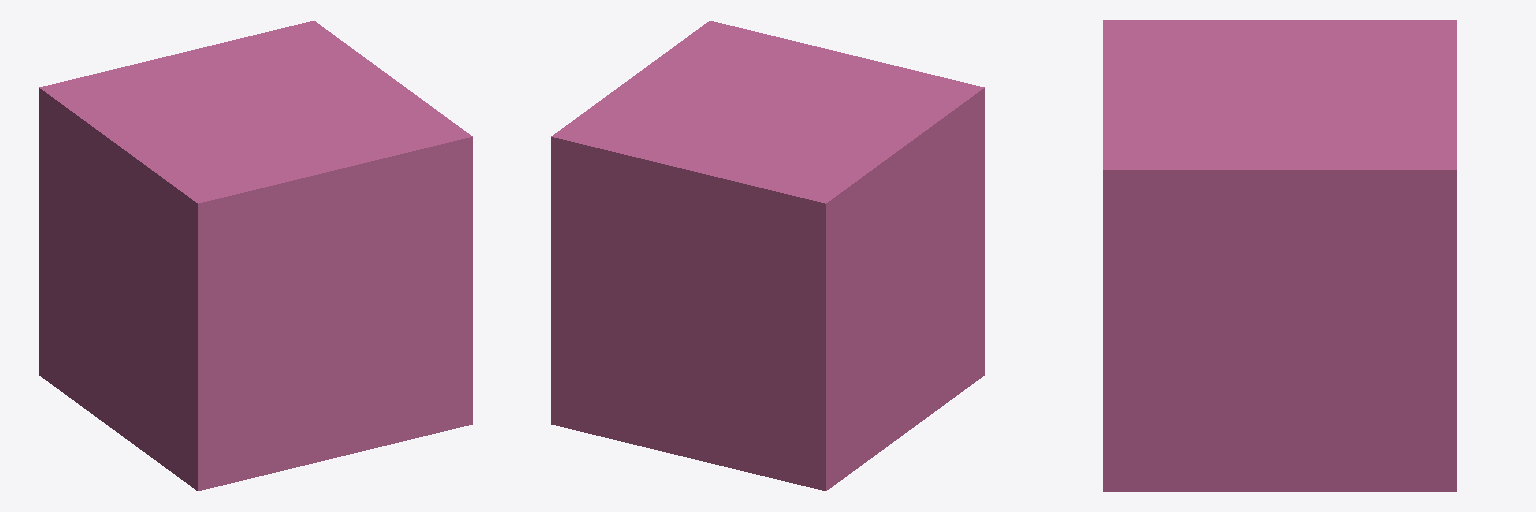
URDF robot description (my_robot):
<?xml version="1.0" ?>
<!-- =================================================================================== -->
<!-- |    This document was autogenerated by xacro from ego_robot.urdf.xacro           | -->
<!-- |    EDITING THIS FILE BY HAND IS NOT RECOMMENDED                                 | -->
<!-- =================================================================================== -->
<robot name="my_robot" xmlns:xacro="http://www.ros.org/wiki/xacro">
  <material name="SoftHand/LightGrey">
    <color rgba="0.7 0.7 0.7 1.0"/>
  </material>
  <material name="SoftHand/DarkGrey">
    <color rgba="0.4 0.4 0.4 1.0"/>
  </material>
  <material name="SoftHand/Black">
    <color rgba="0.0 0.0 0.0 1.0"/>
  </material>
  <material name="SoftHand/DarkGolden">
    <color rgba="0.4 0.4 0.3 1.0"/>
  </material>
  <material name="SoftHand/Blue">
    <color rgba="0.0 0.0 0.8 0.9"/>
  </material>
  <material name="SoftHand/LightBlue">
    <color rgba="0.0 0.4 1.0 0.5"/>
  </material>
  <!-- <xacro:insert_block name="gazebo_friction_properties"/> -->
  <!-- <xacro:insert_block name="gazebo_other_properties"/> -->
  <!-- NOTE: inertia values are approximated using meshlab and only using the significant elements -->
  <!-- from http://answers.ros.org/question/11350/is-there-any-way-to-calculate-inertial-property-of-a-robot-to-simulate-it-in-gazebo/s
    One general rule of thumb I use for checking my inertia tensors is: If total mass of the rigid body is m, and the dimension of the corresponding body is d, then check to see if ixx, iyy, izz are near m*(d/2)^2.

    This is by no means correct, but a sanity check to make sure the moment of inertia are the right order of magnitudes, so the model behaves somewhat physically realistically.
    -->
  <material name="red">
    <color rgba="255 0 0 1"/>
  </material>
  <material name="qbmove/flange">
    <color rgba="0.0 0.5 0.8 1.0"/>
  </material>
  <material name="qbmove/cube">
    <color rgba="0.35 0.35 0.35 1.0"/>
  </material>
  <material name="qbmove/shaft">
    <color rgba="0.8 0.8 0.8 1.0"/>
  </material>
  <material name="qbmove/default">
    <color rgba="0.35 0.35 0.35 1.0"/>
  </material>
  <material name="wheel">
    <color rgba="0.50 0.50 0.50 1.0"/>
  </material>
  
  <link name="world"/>
  
  <joint name="world_to_trans_x" type="prismatic">
	  <parent link="world"/>
	  <child link="trans_x"/>
	  <axis xyz="1 0 0"/>
	  <limit lower="-100000" upper="100000" effort="100000" velocity="100000"/>
  </joint>
  <link name="trans_x"/>

  <joint name="trans_x_to_trans_y" type="prismatic">
	  <parent link="trans_x"/>
	  <child link="trans_y"/>
	  <axis xyz="0 1 0"/>
	  <limit lower="-100000" upper="100000" effort="100000" velocity="100000"/>
  </joint>
  <link name="trans_y"/>
  
    <joint name="trans_y_to_fixed_z" type="fixed">
	  <origin rpy="0.0 0.0 0.0" xyz="0 0 0.13"/> 
	  <parent link="trans_y"/>
	  <child link="trans_z"/>
  </joint>-->
  
  <link name="trans_z"/>
  
  <joint name="trans_z_to_rot_z" type="continuous">
	  <parent link="trans_z"/>
	  <child link="rot_z"/>
	  <axis xyz="0 0 1"/>
  </joint>
  <link name="rot_z"/>

  <joint name="rot_z_to_rot_y" type="continuous">
	  <parent link="rot_z"/>
	  <child link="rot_y"/>
	  <axis xyz="0 1 0"/>
  </joint>
  <link name="rot_y"/>


  <joint name="rot_y_base_link" type="fixed">
	  <origin rpy="0.0 0.0 0.0" xyz="0 0 0"/> 
	  <parent link="rot_y"/>
	  <child link="torso"/>
  </joint>-->
  
  <link name="torso">
    <visual>
      <!--<material name="red"/>-->
      <geometry>
        <!--mesh filename="package://ego_description/meshes/Ego_body.stl" scale="0.001 0.001 0.001"/-->
        <box size="0.1 0.1 0.1"/>
      </geometry>
      <origin rpy="1.57075 -1.57075 0" xyz="0 0 0.1"/>
    </visual>
    <inertial>
      <origin rpy="0 0 0" xyz="-4.9e-3 0 0.2871"/>
      <mass value="13.32"/>
      <inertia ixx="1.41" ixy="3.66e-4" ixz="2.21e-2" iyy="1.29" iyz="-9.05e-4" izz="1.7e-1"/>
    </inertial>
    <collision>
      <geometry>
        <box size="0.1 0.1 0.1"/>
      </geometry>
      <origin rpy="1.57075 -1.57075 0" xyz="0 0 0.1"/>
    </collision>
  </link>
  
  <link name="neck">
    <visual>
      <material name="qbmove/flange"/>
      <geometry>
        <mesh filename="package://ego_description/meshes/qb_c_flange.stl" scale="0.001 0.001 0.001"/>
      </geometry>
      <origin rpy="3.14 0 -1.57075" xyz="0 0 0"/>
    </visual>
    <inertial>
      <origin rpy="0 0 0" xyz="0 0 0"/>
      <mass value="1e-7"/>
      <inertia ixx="1e-8" ixy="0" ixz="0" iyy="1e-8" iyz="0" izz="1e-8"/>
    </inertial>
    <collision>
      <origin rpy="0.0 0.0 0.0" xyz="0.0 0.0 0.0"/>
      <geometry>
        <box size="0.07 0.07 0.07"/>
      </geometry>
    </collision>
  </link>
  
  <joint name="base_to_neck" type="fixed">
    <origin rpy="0.0 0.0 0.0" xyz="0 0 0.74"/>
    <parent link="torso"/>
    <child link="neck"/>
  </joint>
  
  <link name="head">
    <visual>
      <material name="qbmove/cube"/>
      <geometry>
        <mesh filename="package://ego_description/meshes/Ego_head.stl" scale="0.001 0.001 0.001"/>
      </geometry>
      <origin rpy="1.57075 -1.57075 0" xyz="0 0 0"/>
    </visual>
    <inertial>
      <origin rpy="0 0 0" xyz="0 0 0"/>
      <mass value="1e-7"/>
      <inertia ixx="1e-8" ixy="0" ixz="0" iyy="1e-8" iyz="0" izz="1e-8"/>
    </inertial>
    <collision>
      <origin rpy="0.0 0.0 0.0" xyz="0.0 0.0 0.0"/>
      <geometry>
        <box size="0.07 0.07 0.07"/>
      </geometry>
    </collision>
  </link>
  
  <joint name="neck_to_head" type="fixed">
    <origin rpy="0.0 0.0 0.0" xyz="0 0 0.058"/>
    <parent link="neck"/>
    <child link="head"/>
  </joint>
  
  <link name="left_shoulder_flange">
    <visual>
      <material name="qbmove/flange"/>
      <geometry>
        <mesh filename="package://ego_description/meshes/qb_flat_flange.stl" scale="0.001 0.001 0.001"/>
      </geometry>
      <origin rpy="0 0 0" xyz="0 0 -0.033"/>
    </visual>
    <inertial>
      <origin rpy="0 0 0" xyz="0 0 0"/>
      <mass value="1e-7"/>
      <inertia ixx="1e-8" ixy="0" ixz="0" iyy="1e-8" iyz="0" izz="1e-8"/>
    </inertial>
  </link>
  
  <link name="left_shoulder_cube">
    <visual>
      <material name="qbmove/cube"/>
      <geometry>
        <mesh filename="package://ego_description/meshes/qbmove_frame.stl" scale="0.001 0.001 0.001"/>
      </geometry>
      <origin rpy="0 1.57075 0" xyz="-0.033 0 0"/>
    </visual>
    <inertial>
      <origin rpy="0 0 0" xyz="0.001336 0 -3.15e-3"/>
      <mass value="0.601"/>
      <inertia ixx="2.24e-4" ixy="0" ixz="0" iyy="2.43e-4" iyz="0" izz="1.98e-4"/>
    </inertial>
    <collision>
      <origin rpy="0.0 0.0 0.0" xyz="0.0 0.0 0.0"/>
      <geometry>
        <box size="0.07 0.07 0.07"/>
      </geometry>
    </collision>
  </link>
  
  <joint name="base_to_left_shoulder" type="revolute">
    <axis xyz="0 0 1"/>
    <limit effort="1000.0" lower="-1.57" upper="1.884" velocity="0.5"/>
    <origin rpy="-1.3951 0.0 -0.1737" xyz="0.025 0.184 0.721"/>
    <parent link="torso"/>
    <child link="left_shoulder_flange"/>
  </joint>
  
  <joint name="left_shoulder_flange_to_cube" type="fixed">
    <parent link="left_shoulder_flange"/>
    <child link="left_shoulder_cube"/>
  </joint>
  
  <link name="left_arm_flange">
    <visual>
      <material name="qbmove/flange"/>
      <geometry>
        <mesh filename="package://ego_description/meshes/qb_c_flange.stl" scale="0.001 0.001 0.001"/>
      </geometry>
      <origin rpy="-1.57075 0 0" xyz="0 0.057 0"/>
    </visual>
    <inertial>
      <origin rpy="0 0 0" xyz="0 0 0"/>
      <mass value="1e-7"/>
      <inertia ixx="1e-8" ixy="0" ixz="0" iyy="1e-8" iyz="0" izz="1e-8"/>
    </inertial>
  </link>
  
  <link name="left_arm_cube">
    <visual>
      <material name="qbmove/cube"/>
      <geometry>
        <mesh filename="package://ego_description/meshes/qbmove_frame.stl" scale="0.001 0.001 0.001"/>
      </geometry>
      <origin rpy="-1.57075 3.14 0" xyz="0 0.057 0"/>
    </visual>
    <visual>
      <geometry>
        <mesh filename="package://ego_description/meshes/qbmove_pulley.stl" scale="0.001 0.001 0.001"/>
      </geometry>
      <origin rpy="0 0 -1.57075" xyz="0.025 -0.0 0"/>
    </visual>
    <inertial>
      <origin rpy="0 0 0" xyz="9.25e-4  0.08266 0 "/>
      <mass value="0.643"/>
      <inertia ixx="5.44e-4" ixy="0" ixz="0" iyy="2.42e-4" iyz="0" izz="6.04e-4"/>
    </inertial>
    <collision>
      <origin rpy="0.0 0 0.0" xyz="0.0 0.09 0.0"/>
      <geometry>
        <box size="0.07 0.07 0.07"/>
      </geometry>
    </collision>
  </link>
  
  <joint name="shoulder_to_left_arm" type="revolute">
    <axis xyz="1 0 0"/>
    <limit effort="1000.0" lower="-0.174" upper="3.14" velocity="0.5"/>
    <origin rpy="0 0.0 0" xyz="0.0 0 0"/>
    <parent link="left_shoulder_cube"/>
    <child link="left_arm_flange"/>
  </joint>
  <joint name="left_arm_flange_to_cube" type="fixed">
    <parent link="left_arm_flange"/>
    <child link="left_arm_cube"/>
  </joint>
  <link name="left_elbow_flange">
    <visual>
      <material name="qbmove/flange"/>
      <geometry>
        <mesh filename="package://ego_description/meshes/qb_flat_flange.stl" scale="0.001 0.001 0.001"/>
      </geometry>
      <origin rpy="-1.57075 1.57075 0" xyz="0 -0.033 0"/>
    </visual>
    <inertial>
      <origin rpy="0 0 0" xyz="0 0 0"/>
      <mass value="1e-7"/>
      <inertia ixx="1e-8" ixy="0" ixz="0" iyy="1e-8" iyz="0" izz="1e-8"/>
    </inertial>
  </link>
  
  <link name="left_elbow_cube">
    <visual>
      <material name="qbmove/cube"/>
      <geometry>
        <mesh filename="package://ego_description/meshes/qbmove_frame.stl" scale="0.001 0.001 0.001"/>
      </geometry>
      <origin rpy="0 0 3.14" xyz="0 0 -0.033"/>
    </visual>
    <visual>
      <geometry>
        <mesh filename="package://ego_description/meshes/qbmove_pulley.stl" scale="0.001 0.001 0.001"/>
      </geometry>
      <origin rpy="0 0 0.0" xyz="0 -0.053 0"/>
    </visual>
    <inertial>
      <origin rpy="0 0 0" xyz="0  -0.0025 1.36e-3 "/>
      <mass value="0.591"/>
      <inertia ixx="2.25e-4" ixy="0" ixz="0" iyy="1.92e-4" iyz="0" izz="2.00e-4"/>
    </inertial>
    <collision>
      <origin rpy="0.0 0.0 0.0" xyz="0.0 0.0 0.0"/>
      <geometry>
        <box size="0.07 0.07 0.07"/>
      </geometry>
    </collision>
  </link>
  
  <joint name="arm_to_left_elbow" type="revolute">
    <axis xyz="0 1 0"/>
    <limit effort="1000.0" lower="-3.14" upper="3.14" velocity="0.5"/>
    <origin rpy="0.0 0.0 0.0" xyz="0.0 0.168 0.0"/>
    <parent link="left_arm_cube"/>
    <child link="left_elbow_flange"/>
  </joint>
  <joint name="left_elbow_flange_to_cube" type="fixed">
    <parent link="left_elbow_flange"/>
    <child link="left_elbow_cube"/>
  </joint>
  
  <link name="left_forearm_flange">
    <visual>
      <material name="qbmove/flange"/>
      <geometry>
        <mesh filename="package://ego_description/meshes/qb_c_flange.stl" scale="0.001 0.001 0.001"/>
      </geometry>
      <origin rpy="-1.57075 -1.57075 0" xyz="0 0.057 0"/>
    </visual>
    <inertial>
      <origin rpy="0 0 0" xyz="0 0 0"/>
      <mass value="1e-7"/>
      <inertia ixx="1e-8" ixy="0" ixz="0" iyy="1e-8" iyz="0" izz="1e-8"/>
    </inertial>
  </link>
  
  <link name="left_forearm_cube">
    <visual>
      <material name="qbmove/cube"/>
      <geometry>
        <mesh filename="package://ego_description/meshes/qbmove_frame.stl" scale="0.001 0.001 0.001"/>
      </geometry>
      <origin rpy="-1.57075 3.14 0" xyz="0 0.057 0"/>
    </visual>
    <visual>
      <geometry>
        <mesh filename="package://ego_description/meshes/qbmove_pulley.stl" scale="0.001 0.001 0.001"/>
      </geometry>
      <origin rpy="1.57075 0 0" xyz="0 0 0.025"/>
    </visual>
    <inertial>
      <origin rpy="0 0 0" xyz="0  0.07663 -1.78e-3 "/>
      <mass value="0.353"/>
      <inertia ixx="5.4e-4" ixy="0" ixz="0" iyy="2.06e-4" iyz="0" izz="4.82e-4"/>
    </inertial>
    <collision>
      <origin rpy="0.0 0.0 0.0" xyz="0.0 0.09 0.0"/>
      <geometry>
        <box size="0.07 0.07 0.07"/>
      </geometry>
    </collision>
  </link>
  
  <joint name="elbow_to_left_forearm" type="revolute">
    <axis xyz="0 0 1"/>
    <limit effort="1000.0" lower="-1.57" upper="1.57" velocity="0.5"/>
    <origin rpy="0 0.0 0" xyz="0.0 0 0"/>
    <parent link="left_elbow_cube"/>
    <child link="left_forearm_flange"/>
  </joint>
  <joint name="left_forearm_flange_to_cube" type="fixed">
    <parent link="left_forearm_flange"/>
    <child link="left_forearm_cube"/>
  </joint>
  
  <link name="left_EE">
    <visual>
      <material name="qbmove/flange"/>
      <geometry>
        <mesh filename="package://ego_description/meshes/qb_flat_flange.stl" scale="0.001 0.001 0.001"/>
      </geometry>
      <origin rpy="-1.57075 1.57075 0" xyz="0 -0.033 0"/>
    </visual>
    <inertial>
      <origin rpy="0 0 0" xyz="4.62e-3 0.062 -4.88e-3"/>
      <mass value="0.381"/>
      <inertia ixx="1.173e-3" ixy="0" ixz="0" iyy="2.83e-4" iyz="0" izz="1.33e-3"/>
    </inertial>
  </link>
  
  <joint name="forearm_to_left_EE" type="revolute">
    <axis xyz="0 1 0"/>
    <limit effort="1000.0" lower="-3.14" upper="3.14" velocity="0.5"/>
    <origin rpy="0.0 0.0 0.0" xyz="0.0 0.168 0.0"/>
    <parent link="left_forearm_cube"/>
    <child link="left_EE"/>
  </joint>
 
  
  <link name="right_shoulder_flange">
    <visual>
      <material name="qbmove/flange"/>
      <geometry>
        <mesh filename="package://ego_description/meshes/qb_flat_flange.stl" scale="0.001 0.001 0.001"/>
      </geometry>
      <origin rpy="0 0 0" xyz="0 0 -0.033"/>
    </visual>
    <inertial>
      <origin rpy="0 0 0" xyz="0 0 0"/>
      <mass value="1e-7"/>
      <inertia ixx="1e-8" ixy="0" ixz="0" iyy="1e-8" iyz="0" izz="1e-8"/>
    </inertial>
  </link>
  
  <link name="right_shoulder_cube">
    <visual>
      <material name="qbmove/cube"/>
      <geometry>
        <mesh filename="package://ego_description/meshes/qbmove_frame.stl" scale="0.001 0.001 0.001"/>
      </geometry>
      <origin rpy="0 1.57075 0" xyz="-0.033 0 0"/>
    </visual>
    <inertial>
      <origin rpy="0 0 0" xyz="-0.001336 0 -3.15e-3"/>
      <mass value="0.601"/>
      <inertia ixx="2.24e-4" ixy="0" ixz="0" iyy="2.43e-4" iyz="0" izz="1.98e-4"/>
    </inertial>
    <collision>
      <origin rpy="0.0 0.0 0.0" xyz="0.0 0.0 0.0"/>
      <geometry>
        <box size="0.07 0.07 0.07"/>
      </geometry>
    </collision>
  </link>
  
  <joint name="base_to_right_shoulder" type="revolute">
    <axis xyz="0 0 1"/>
    <limit effort="1000.0" lower="-1.57" upper="1.884"  velocity="0.5"/>
    <origin rpy="1.3951 0.0 0.1737" xyz="0.025 -0.184 0.721"/>
    <parent link="torso"/>
    <child link="right_shoulder_flange"/>
  </joint>
  <joint name="right_shoulder_flange_to_cube" type="fixed">
    <parent link="right_shoulder_flange"/>
    <child link="right_shoulder_cube"/>
  </joint>
  
  <link name="right_arm_flange">
    <visual>
      <material name="qbmove/flange"/>
      <geometry>
        <mesh filename="package://ego_description/meshes/qb_c_flange.stl" scale="0.001 0.001 0.001"/>
      </geometry>
      <origin rpy="1.57075 0 0" xyz="0 -0.057 0"/>
    </visual>
    <inertial>
      <origin rpy="0 0 0" xyz="0 0 0"/>
      <mass value="1e-7"/>
      <inertia ixx="1e-8" ixy="0" ixz="0" iyy="1e-8" iyz="0" izz="1e-8"/>
    </inertial>
  </link>
  
  <link name="right_arm_cube">
    <visual>
      <material name="qbmove/cube"/>
      <geometry>
        <mesh filename="package://ego_description/meshes/qbmove_frame.stl" scale="0.001 0.001 0.001"/>
      </geometry>
      <origin rpy="1.57075 3.14 0" xyz="0 -0.057 0"/>
    </visual>
    <visual>
      <geometry>
        <mesh filename="package://ego_description/meshes/qbmove_pulley.stl" scale="0.001 0.001 0.001"/>
      </geometry>
      <origin rpy="0 0 -1.57075" xyz="0.025 0.0 0"/>
    </visual>
    <inertial>
      <origin rpy="0 0 0" xyz="9.25e-4  -0.08266 0 "/>
      <mass value="0.643"/>
      <inertia ixx="5.44e-4" ixy="0" ixz="0" iyy="2.42e-4" iyz="0" izz="6.04e-4"/>
    </inertial>
    <collision>
      <origin rpy="0.0 0 0.0" xyz="0.0 -0.09 0.0"/>
      <geometry>
        <box size="0.07 0.07 0.07"/>
      </geometry>
    </collision>
  </link>
  
  <joint name="shoulder_to_right_arm" type="revolute">
    <axis xyz="1 0 0"/>
    <limit effort="1000.0" lower="-3.14" upper="0.174" velocity="0.5"/>
    <origin rpy="0 0.0 0" xyz="0.0 0 0"/>
    <parent link="right_shoulder_cube"/>
    <child link="right_arm_flange"/>
  </joint>
  <joint name="right_arm_flange_to_cube" type="fixed">
    <parent link="right_arm_flange"/>
    <child link="right_arm_cube"/>
  </joint>
  <link name="right_elbow_flange">
    <visual>
      <material name="qbmove/flange"/>
      <geometry>
        <mesh filename="package://ego_description/meshes/qb_flat_flange.stl" scale="0.001 0.001 0.001"/>
      </geometry>
      <origin rpy="1.57075 1.57075 0" xyz="0 0.033 0"/>
    </visual>
    <inertial>
      <origin rpy="0 0 0" xyz="0 0 0"/>
      <mass value="1e-7"/>
      <inertia ixx="1e-8" ixy="0" ixz="0" iyy="1e-8" iyz="0" izz="1e-8"/>
    </inertial>
  </link>
  
  <link name="right_elbow_cube">
    <visual>
      <material name="qbmove/cube"/>
      <geometry>
        <mesh filename="package://ego_description/meshes/qbmove_frame.stl" scale="0.001 0.001 0.001"/>
      </geometry>
      <origin rpy="0 0 3.14" xyz="0 0 -0.033"/>
    </visual>
    <visual>
      <geometry>
        <mesh filename="package://ego_description/meshes/qbmove_pulley.stl" scale="0.001 0.001 0.001"/>
      </geometry>
      <origin rpy="0 0 3.14" xyz="0 0.053 0"/>
    </visual>
    <inertial>
      <origin rpy="0 0 0" xyz="0  0.0025 1.36e-3 "/>
      <mass value="0.591"/>
      <inertia ixx="2.25e-4" ixy="0" ixz="0" iyy="1.92e-4" iyz="0" izz="2.00e-4"/>
    </inertial>
    <collision>
      <origin rpy="0.0 0.0 0.0" xyz="0.0 0.0 0.0"/>
      <geometry>
        <box size="0.07 0.07 0.07"/>
      </geometry>
    </collision>
  </link>
  
  <joint name="arm_to_right_elbow" type="revolute">
    <axis xyz="0 1 0"/>
    <limit effort="1000.0" lower="-3.14" upper="3.14" velocity="0.5"/>
    <origin rpy="0.0 0.0 0.0" xyz="0.0 -0.168 0.0"/>
    <parent link="right_arm_cube"/>
    <child link="right_elbow_flange"/>
  </joint>
  <joint name="right_elbow_flange_to_cube" type="fixed">
    <parent link="right_elbow_flange"/>
    <child link="right_elbow_cube"/>
  </joint>
  <link name="right_forearm_flange">
    <visual>
      <material name="qbmove/flange"/>
      <geometry>
        <mesh filename="package://ego_description/meshes/qb_c_flange.stl" scale="0.001 0.001 0.001"/>
      </geometry>
      <origin rpy="1.57075 -1.57075 0" xyz="0 -0.057 0"/>
    </visual>
    <inertial>
      <origin rpy="0 0 0" xyz="0 0 0"/>
      <mass value="1e-7"/>
      <inertia ixx="1e-8" ixy="0" ixz="0" iyy="1e-8" iyz="0" izz="1e-8"/>
    </inertial>
  </link>
  
  <link name="right_forearm_cube">
    <visual>
      <material name="qbmove/cube"/>
      <geometry>
        <mesh filename="package://ego_description/meshes/qbmove_frame.stl" scale="0.001 0.001 0.001"/>
      </geometry>
      <origin rpy="1.57075 3.14 0" xyz="0 -0.057 0"/>
    </visual>
    <visual>
      <geometry>
        <mesh filename="package://ego_description/meshes/qbmove_pulley.stl" scale="0.001 0.001 0.001"/>
      </geometry>
      <origin rpy="1.57075 0 0" xyz="0 0 0.025"/>
    </visual>
    <inertial>
      <origin rpy="0 0 0" xyz="0  -0.07663 -1.78e-3 "/>
      <mass value="0.353"/>
      <inertia ixx="5.4e-4" ixy="0" ixz="0" iyy="2.06e-4" iyz="0" izz="4.82e-4"/>
    </inertial>
    <collision>
      <origin rpy="0.0 0.0 0.0" xyz="0.0 -0.09 0.0"/>
      <geometry>
        <box size="0.07 0.07 0.07"/>
      </geometry>
    </collision>
  </link>
  
  <joint name="elbow_to_right_forearm" type="revolute">
    <axis xyz="0 0 1"/>
    <limit effort="1000.0" lower="-1.57" upper="1.57" velocity="0.5"/>
    <origin rpy="0 0.0 0" xyz="0.0 0 0"/>
    <parent link="right_elbow_cube"/>
    <child link="right_forearm_flange"/>
  </joint>
  <joint name="right_forearm_flange_to_cube" type="fixed">
    <parent link="right_forearm_flange"/>
    <child link="right_forearm_cube"/>
  </joint>
  <link name="right_EE">
    <visual>
      <material name="qbmove/flange"/>
      <geometry>
        <mesh filename="package://ego_description/meshes/qb_flat_flange.stl" scale="0.001 0.001 0.001"/>
      </geometry>
      <origin rpy="1.57075 1.57075 0" xyz="0 0.033 0"/>
    </visual>
    <inertial>
      <origin rpy="0 0 0" xyz="4.62e-3 -0.062 -4.88e-3"/>
      <mass value="0.381"/>
      <inertia ixx="1.173e-3" ixy="0" ixz="0" iyy="2.83e-4" iyz="0" izz="1.33e-3"/>
    </inertial>
  </link>
  
  <joint name="forearm_to_right_EE" type="revolute">
    <axis xyz="0 1 0"/>
    <limit effort="1000.0" lower="-3.14" upper="3.14" velocity="0.5"/>
    <origin rpy="0.0 0.0 0.0" xyz="0.0 -0.168 0.0"/>
    <parent link="right_forearm_cube"/>
    <child link="right_EE"/>
  </joint>
  
 
  <!-- Ego Left Wheel-->
  <link name="wheel_L">
    <visual>
      <material name="wheel"/>
      <geometry>
        <!--<cylinder  length="0.1" radius="0.13"/>-->
        <mesh filename="package://ego_description/meshes/Ego_wheel.stl" scale="0.001 0.001 0.001"/>
      </geometry>
      <origin rpy="1.57075 0 0" xyz="0 0 0"/>
    </visual>
    <inertial>
      <origin rpy="0 0 0" xyz="0 0 0"/>
      <mass value="1.22"/>
      <inertia ixx="3.21e-3" ixy="0" ixz="0" iyy="5.31e-3" iyz="0" izz="3.21e-3"/>
    </inertial>
    <collision>
      <geometry>
        <cylinder length="0.1" radius="0.13"/>
      </geometry>
      <origin rpy="1.57075 0 0" xyz="0 0 0"/>
    </collision>
  </link>
  <joint name="L_joint_baseW" type="continuous">
    <axis xyz="0 1 0"/>
    <origin rpy="0.0 0.0 0.0" xyz="0.0 0.248 0"/>
    <parent link="torso"/>
    <child link="wheel_L"/>
  </joint>
  <!-- Ego Right Wheel-->
  <link name="wheel_R">
    <visual>
      <material name="wheel"/>
      <geometry>
        <!--<cylinder  length="0.1" radius="0.13"/>-->
        <mesh filename="package://ego_description/meshes/Ego_wheel.stl" scale="0.001 0.001 0.001"/>
      </geometry>
      <origin rpy="1.57075 0 0" xyz="0 0 0"/>
    </visual>
    <inertial>
      <origin rpy="0 0 0" xyz="0 0 0"/>
      <mass value="1.22"/>
      <inertia ixx="3.21e-3" ixy="0" ixz="0" iyy="5.31e-3" iyz="0" izz="3.21e-3"/>
    </inertial>
    <collision>
      <geometry>
        <cylinder length="0.1" radius="0.13"/>
      </geometry>
      <origin rpy="1.57075 0 0" xyz="0 0 0"/>
    </collision>
  </link>
  <joint name="R_joint_baseW" type="continuous">
    <axis xyz="0 1 0"/>
    <origin rpy="0.0 0.0 0.0" xyz="0.0 -0.248 0"/>
    <parent link="torso"/>
    <child link="wheel_R"/>
  </joint>
</robot>

--- What the picture shows (computed from the rendered views, not written in the file) ---
The picture shows the robot from 3 angles, left to right: view 1: azimuth 30°, elevation 25°; view 2: azimuth 150°, elevation 25°; view 3: azimuth 270°, elevation 25°; orthographic projection.
Robot: my_robot — 29 links, 28 joints (10 revolute, 4 continuous, 2 prismatic, 12 fixed); root link world; default pose: all joints at 0.
Links seen in each view (by area): view 1: torso; view 2: torso; view 3: torso.
Link boxes in pixels (box(x1,y1,x2,y2)): torso: box(39, 21, 472, 490); torso: box(551, 21, 984, 490); torso: box(1103, 20, 1456, 491).
Bounding box of the posed robot: 0.1 × 0.1 × 0.1 m (x, y, z).
Meshes: 6 distinct files referenced, 0 mesh visuals loaded (none loaded); not drawn: 28 (reference not matched to a file when rendering).